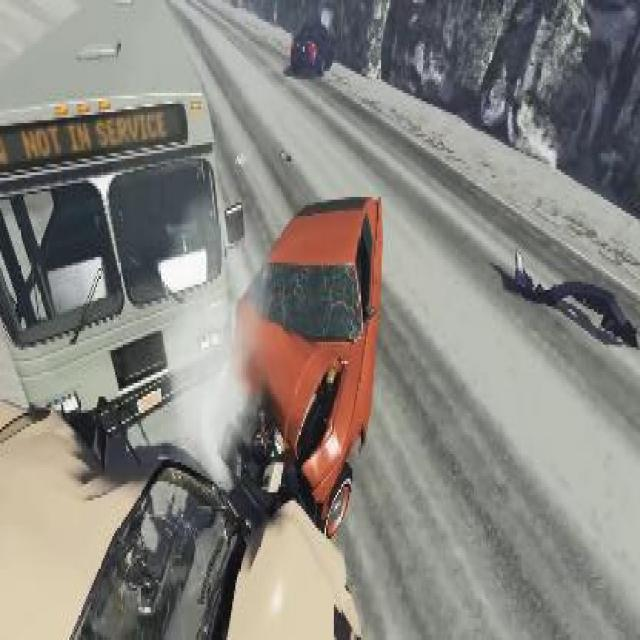accident: (0, 0, 389, 637), (0, 188, 391, 640)
